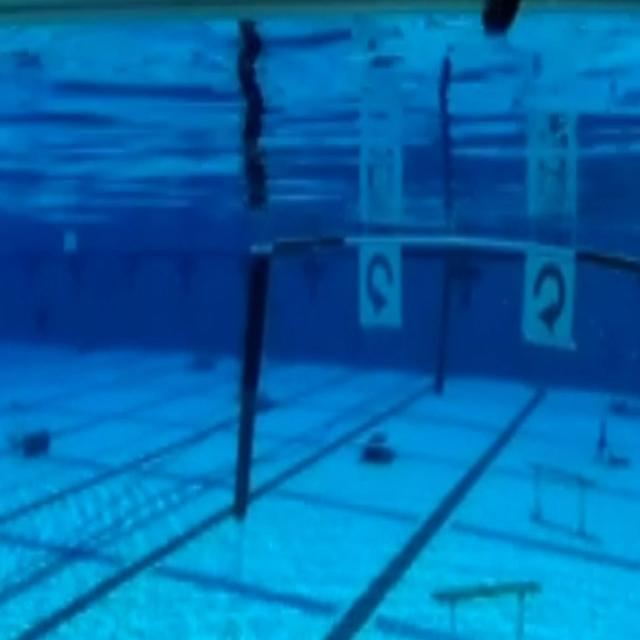Gate: (226, 229, 640, 554)
